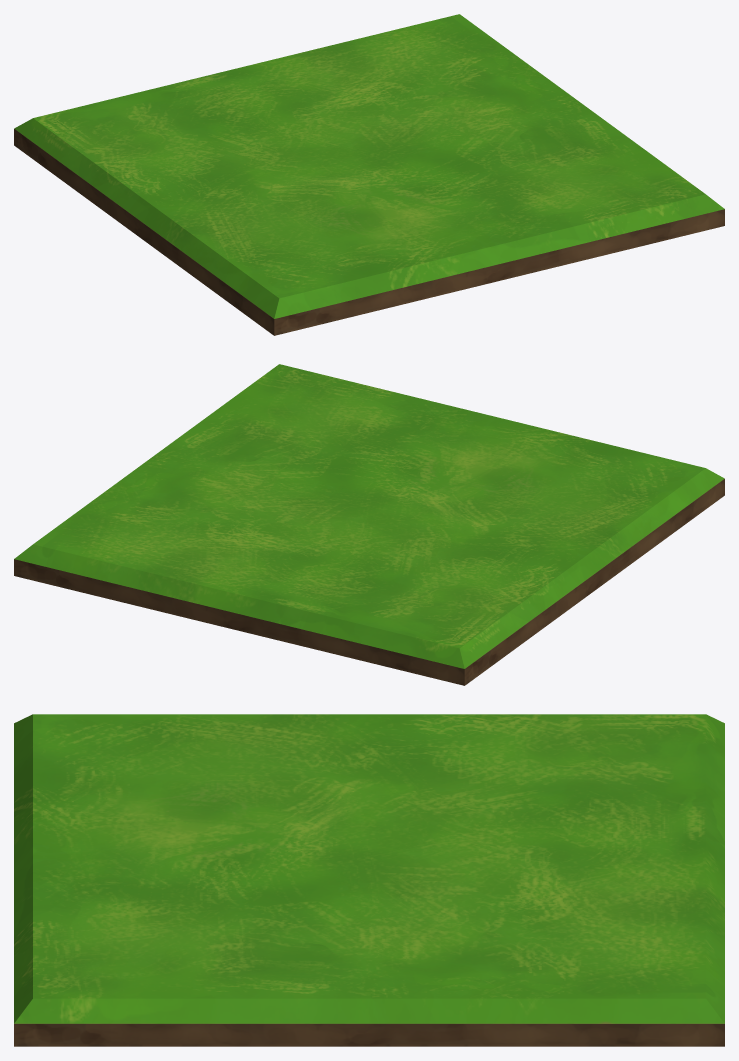
File: Grass 1.fbx
3 views of the same model, one above another, from view 1: azimuth 30°, elevation 25°; view 2: azimuth 150°, elevation 25°; view 3: azimuth 270°, elevation 25° (orthographic). The views are drawn at different scales.
Parts seen in each view (by area): view 1: Grass; view 2: Grass; view 3: Grass.
Part boxes in pixels (left/top/right/bottom): Grass: left=14, top=14, right=724, bottom=335; Grass: left=14, top=364, right=724, bottom=685; Grass: left=14, top=714, right=724, bottom=1046.
Bounding box in the file's own units: 3.2 × 51.25 × 51.25.
Materials: 1 (1 with a texture image).
